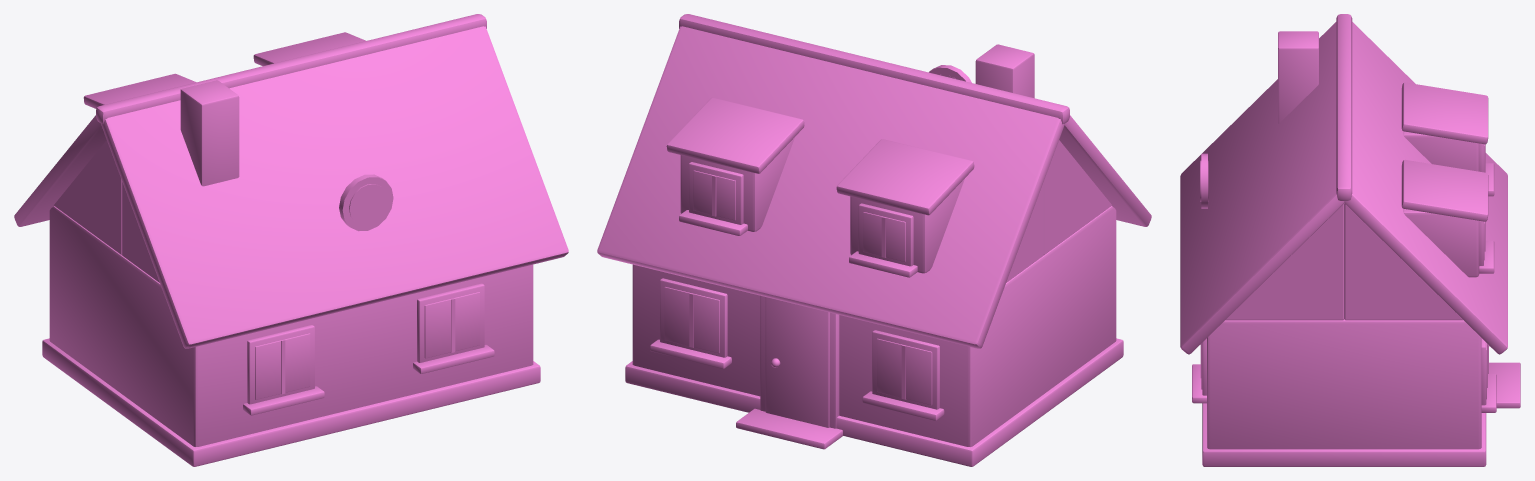
The model's file is House_D.fbx.
3 renders of one model, left to right at view 1: azimuth 30°, elevation 25°; view 2: azimuth 150°, elevation 25°; view 3: azimuth 270°, elevation 25°, orthographic. The views are drawn at different scales.
Visible parts, largest first — view 1: Body, Paint; view 2: Body, Paint; view 3: Body, Paint.
Part boxes in pixels (x1,y1,x2,y2): Body: [14, 14, 568, 466]; Paint: [49, 206, 533, 446]; Body: [597, 14, 1151, 466]; Paint: [632, 206, 1116, 446]; Body: [1180, 14, 1520, 466]; Paint: [1207, 319, 1481, 449].
Size of the model in its own units: 18.2 by 14.65 by 14.86.
1 material, 1 textured.
